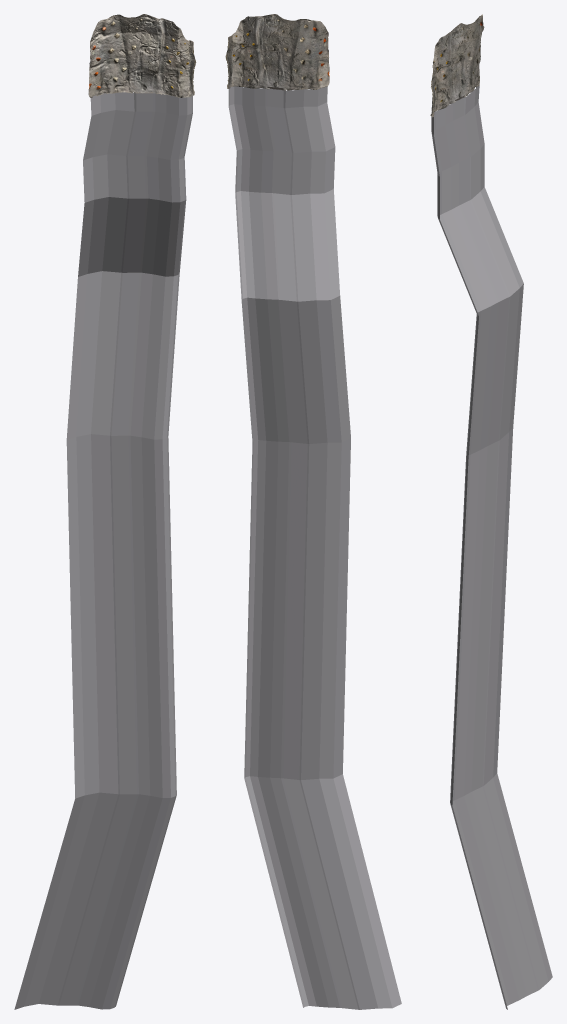
File: TelefonplanRockWallTALLER.fbx
3 renders of one model, left to right at view 1: azimuth 30°, elevation 25°; view 2: azimuth 210°, elevation 25°; view 3: azimuth 270°, elevation 25°, orthographic. The views are drawn at different scales.
Visible parts, largest first — view 1: Mesh_0; view 2: Mesh_0; view 3: Mesh_0.
Boxes of the visible parts, x1,y1,x2,y2 form: Mesh_0: [14, 14, 196, 1009]; Mesh_0: [225, 14, 401, 1009]; Mesh_0: [430, 14, 552, 1009].
Size of the model in its own units: 431 by 3213 by 361.
Materials: 2 (1 with a texture image).
